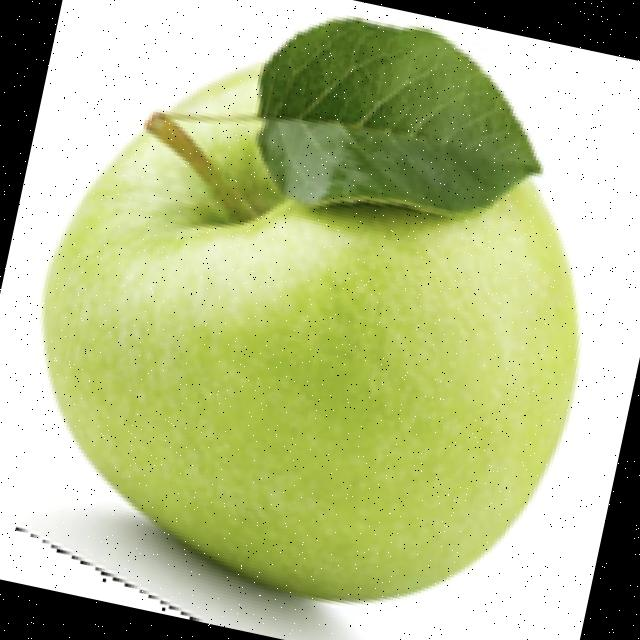apple: (38, 11, 584, 640)
